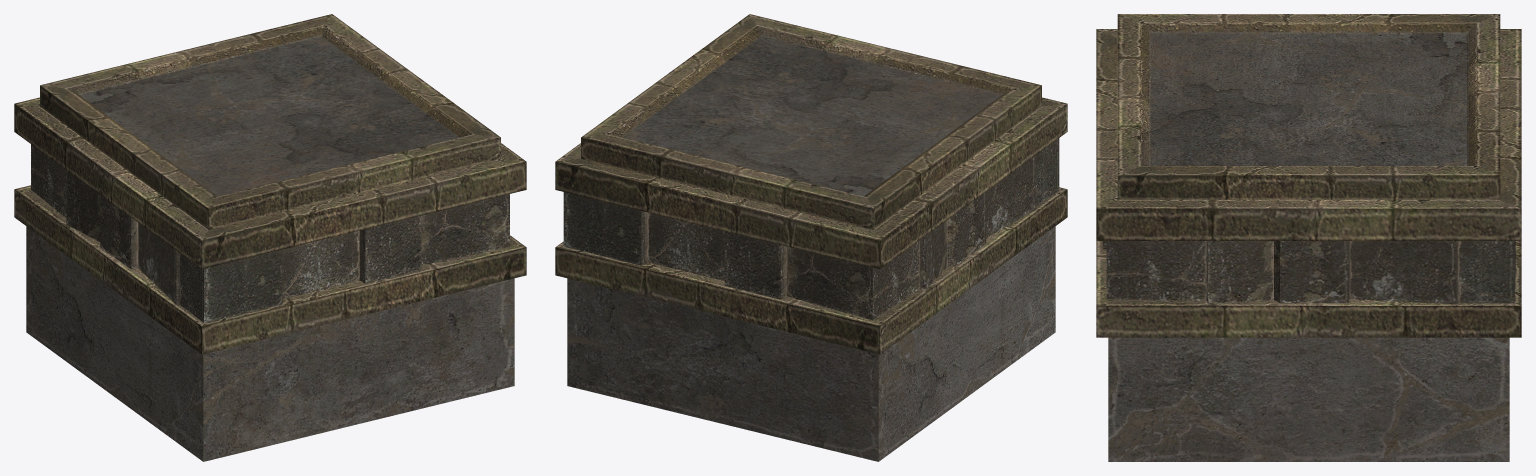
Rendered from bg_lut_lutomb_structure06_sm_old.FBX.
The picture shows the model from 3 angles, left to right: view 1: azimuth 30°, elevation 25°; view 2: azimuth 150°, elevation 25°; view 3: azimuth 270°, elevation 25°; orthographic projection. The views are drawn at different scales.
Parts seen in each view (by area): view 1: bg_lut_lutomb_structure06_sm_old; view 2: bg_lut_lutomb_structure06_sm_old; view 3: bg_lut_lutomb_structure06_sm_old.
Boxes of the visible parts, x1,y1,x2,y2 form: bg_lut_lutomb_structure06_sm_old: [14, 14, 526, 461]; bg_lut_lutomb_structure06_sm_old: [555, 14, 1067, 461]; bg_lut_lutomb_structure06_sm_old: [1096, 14, 1521, 461].
Bounding box in the file's own units: 96 × 70 × 96.
